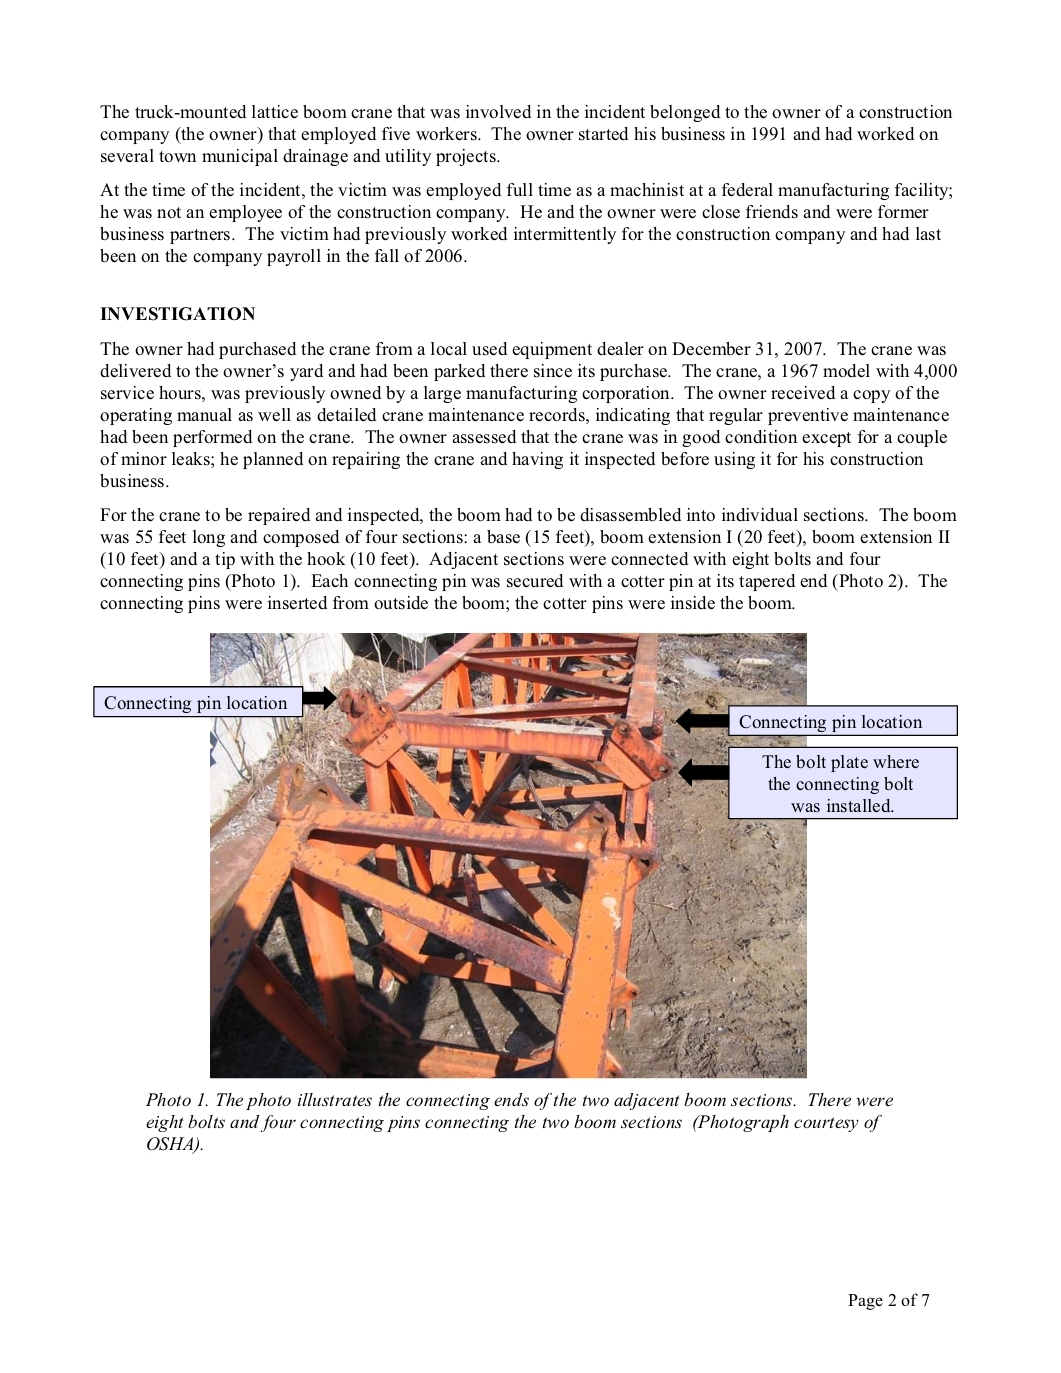figure: (93, 632, 957, 1079)
